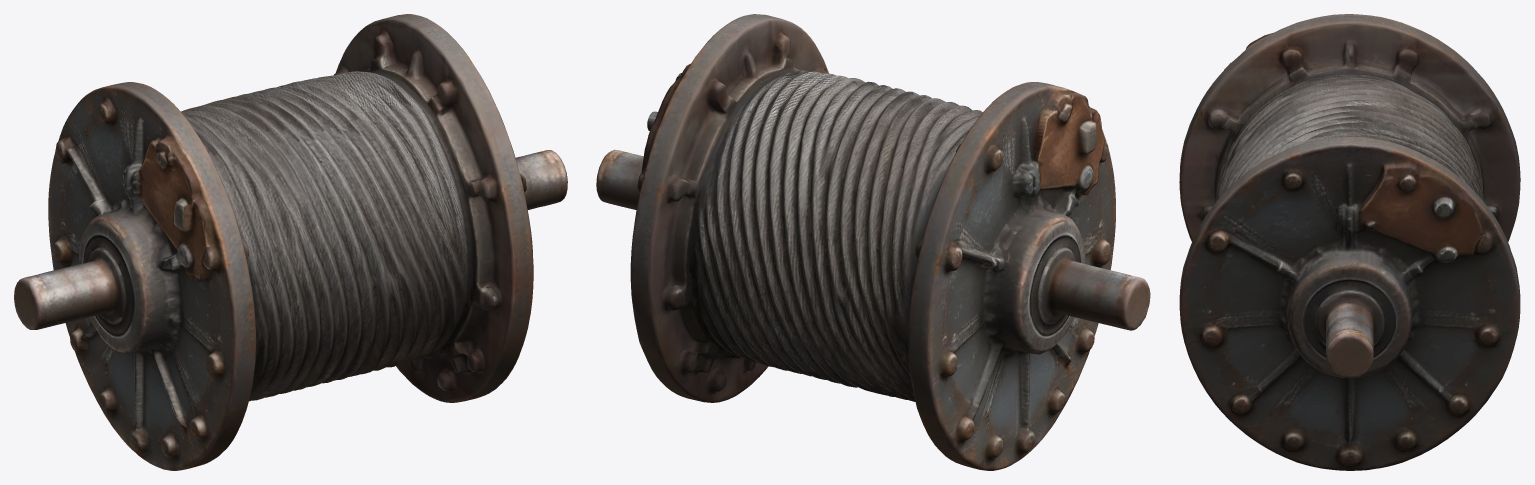
The model's file is arponero_carrete.glb.
3 views of the same model, side by side, from view 1: azimuth 30°, elevation 25°; view 2: azimuth 150°, elevation 25°; view 3: azimuth 270°, elevation 25° (orthographic). The views are drawn at different scales.
Parts seen in each view (by area): view 1: input; view 2: input; view 3: input.
Boxes of the visible parts, x1,y1,x2,y2 form: input: (14, 14, 567, 470); input: (596, 14, 1150, 470); input: (1179, 14, 1520, 470).
Bounding box in the file's own units: 0.9 × 0.5854 × 0.5536.
1 material, 1 textured.
